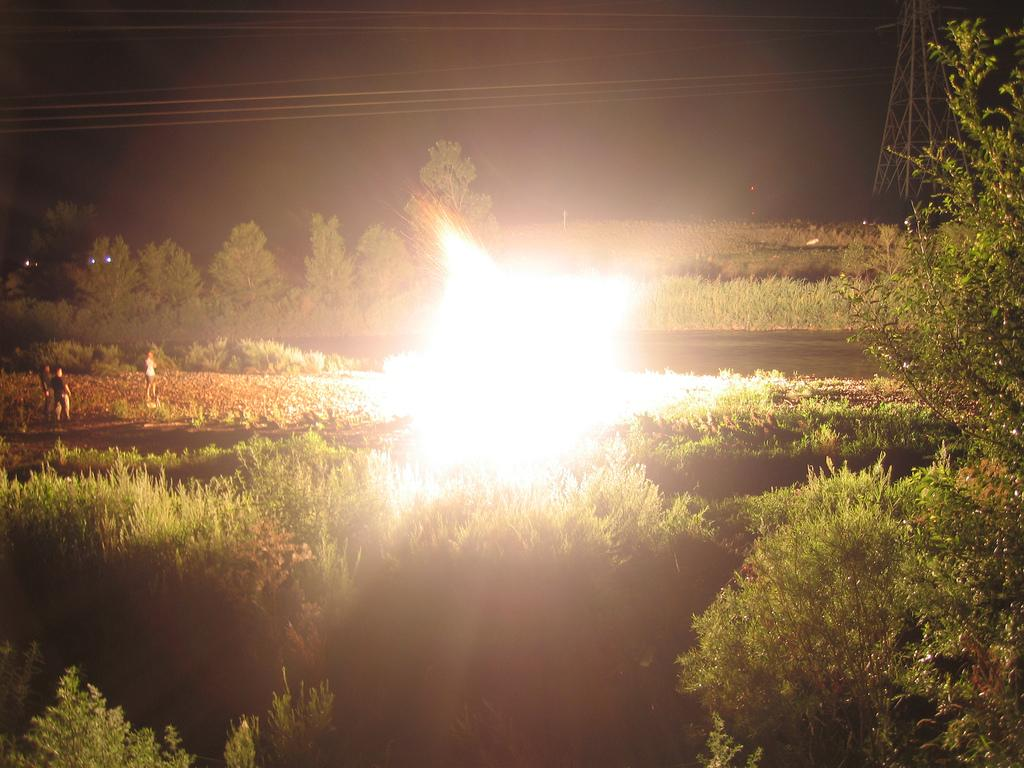fire: (446, 274, 612, 490)
